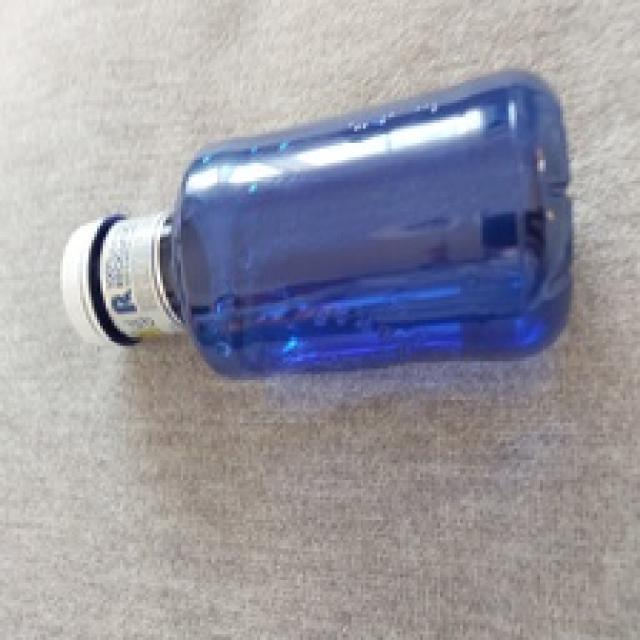Plastic: (62, 67, 570, 378)
